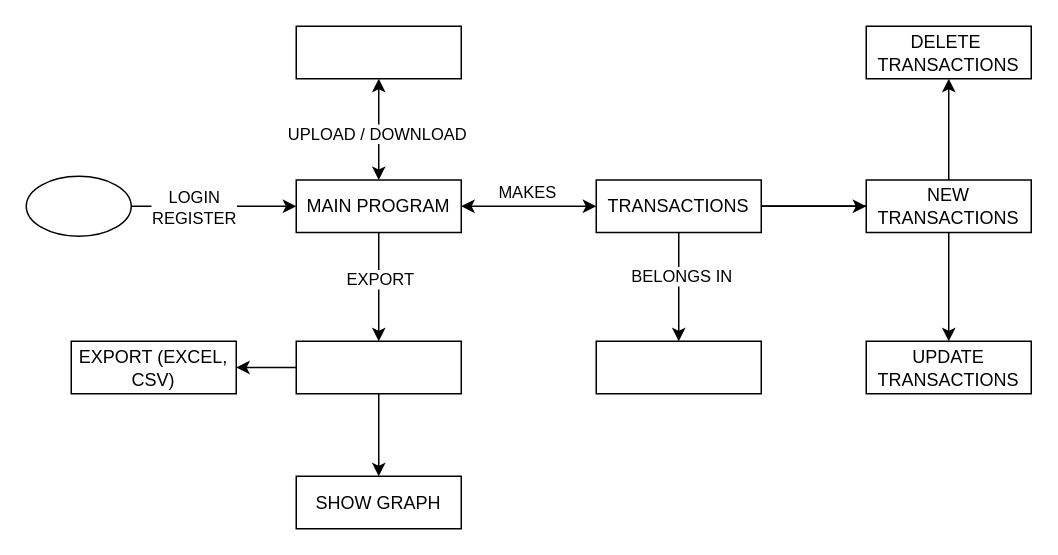
This 1058x555 diagram has some shape labels left out. Here are the shapes that lost their labels. From the top down, the centre of each, then its label:
At (x=378, y=52): "SQLite".
At (x=78, y=205): "USER".
At (x=378, y=367): "DATA HANDLING".
At (x=678, y=367): "CATEGORIES".
